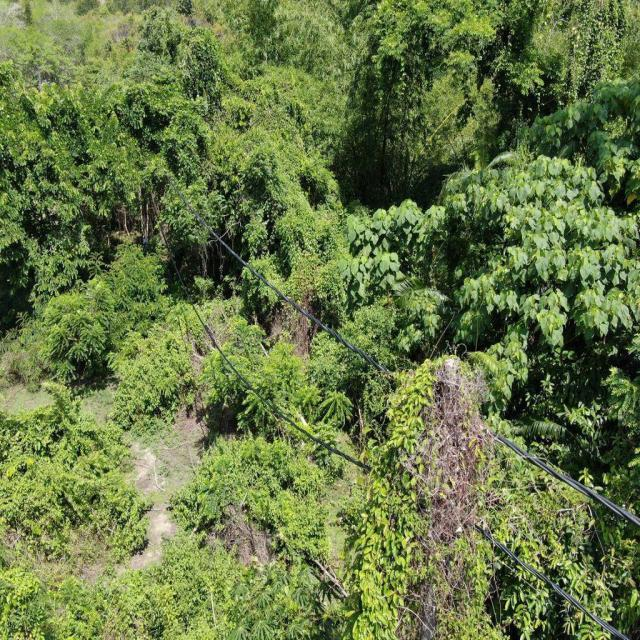critical vegetation: (347, 349, 492, 639)
